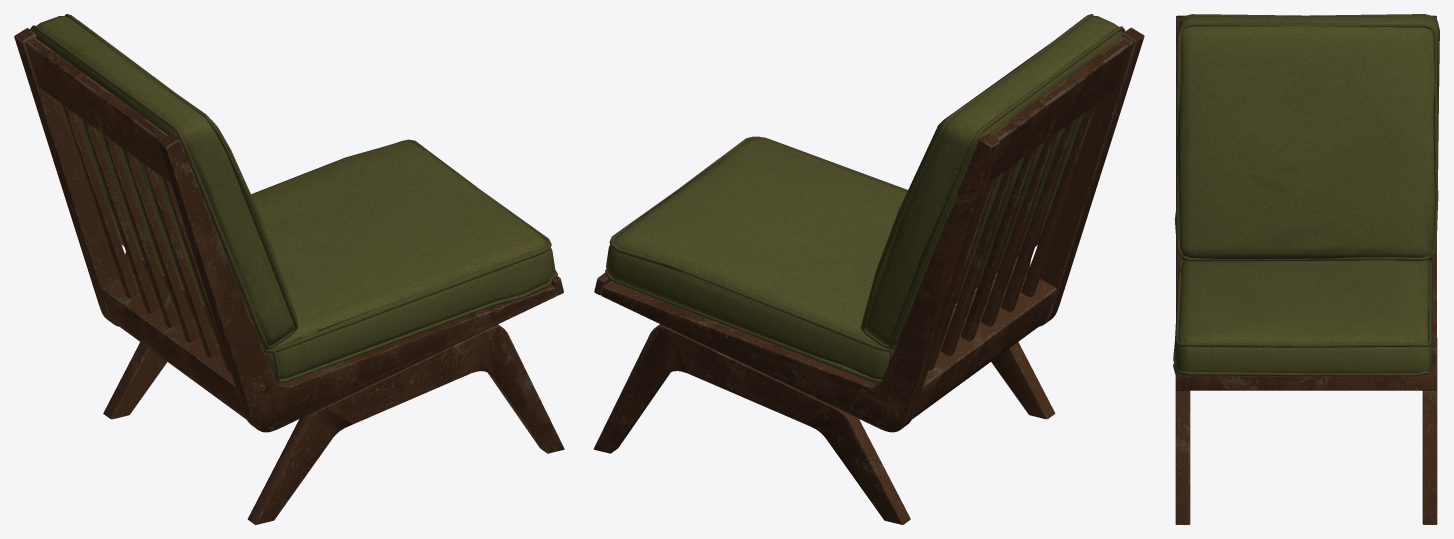
Rendered from bovenkamp_vintage_chair_1950s.gltf.
3 renders of one model, left to right at view 1: azimuth 30°, elevation 25°; view 2: azimuth 150°, elevation 25°; view 3: azimuth 270°, elevation 25°, orthographic. The views are drawn at different scales.
Parts seen in each view (by area): view 1: cushion 2 _cushions_0, Sides, cushion 1, Legs _chair_0, back _chair_0, top, Seat; view 2: cushion 2 _cushions_0, Sides, cushion 1, Legs _chair_0, back _chair_0, top, Seat; view 3: cushion 1, cushion 2 _cushions_0, Legs _chair_0, front _chair_0, Sides.
Boxes of the visible parts, x1,y1,x2,y2 form: cushion 2 _cushions_0: [125, 139, 557, 383]; Sides: [14, 28, 556, 432]; cushion 1: [30, 14, 297, 350]; Legs _chair_0: [103, 324, 564, 524]; back _chair_0: [61, 104, 230, 372]; top: [25, 37, 171, 183]; Seat: [102, 275, 246, 419]; cushion 2 _cushions_0: [605, 136, 1030, 382]; Sides: [601, 27, 1144, 432]; cushion 1: [860, 14, 1125, 349]; Legs _chair_0: [593, 324, 1055, 524]; back _chair_0: [928, 103, 1097, 370]; top: [987, 37, 1133, 183]; Seat: [912, 273, 1056, 419]; cushion 1: [1174, 14, 1439, 261]; cushion 2 _cushions_0: [1173, 260, 1432, 376]; Legs _chair_0: [1175, 338, 1437, 524]; front _chair_0: [1176, 374, 1436, 390]; Sides: [1176, 15, 1436, 374].
Bounding box in the file's own units: 1.3 × 1.29 × 0.8786.
2 materials, 2 textured.
